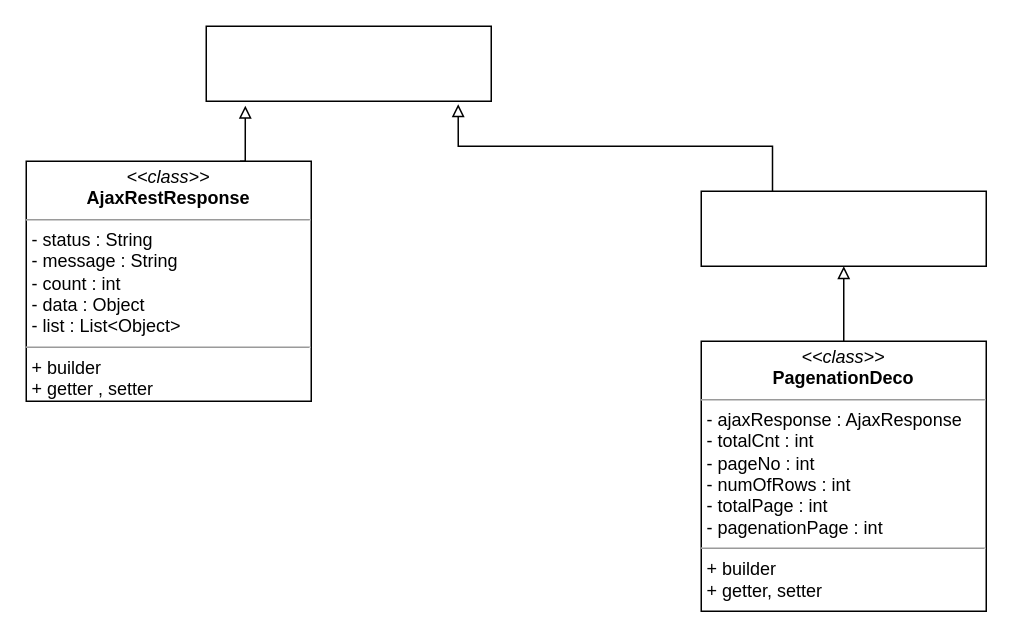
Some shapes in this 1013 by 638 pixel diagram are drawn without their labels. Here are the shapes that lost their labels. From the top down, the box of each, then its label:
(205, 25, 491, 101): <<abstract class>> AjaxResponse
(700, 190, 986, 266): <<abstract class>> ResponseDecorator
